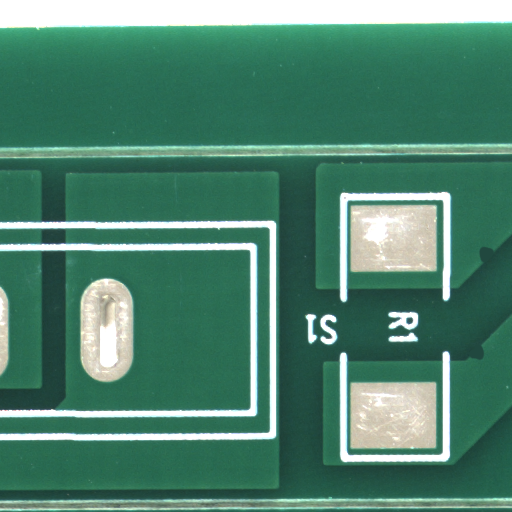Mouse_bite: (477, 352, 493, 367), (487, 255, 502, 270)
